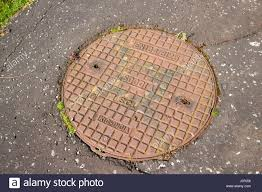manhole: (41, 9, 248, 172)
